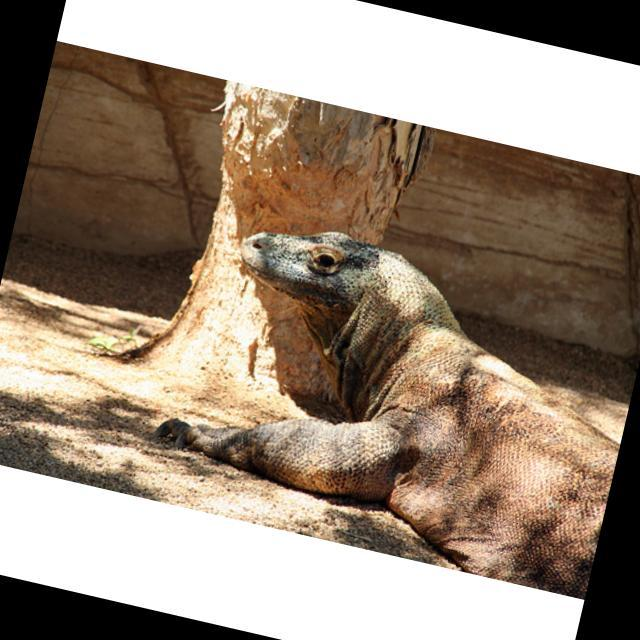KomodoDragon: (142, 201, 640, 597)
